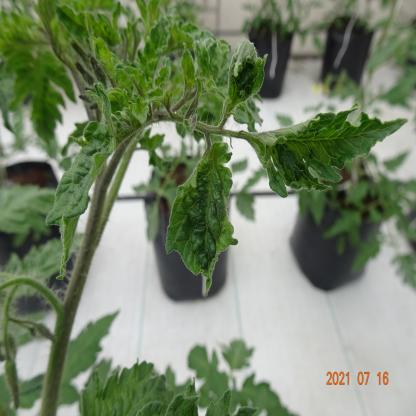T_L_R: (240, 105, 408, 197), (167, 142, 239, 295), (47, 122, 115, 279), (81, 363, 173, 416), (220, 39, 267, 127)
